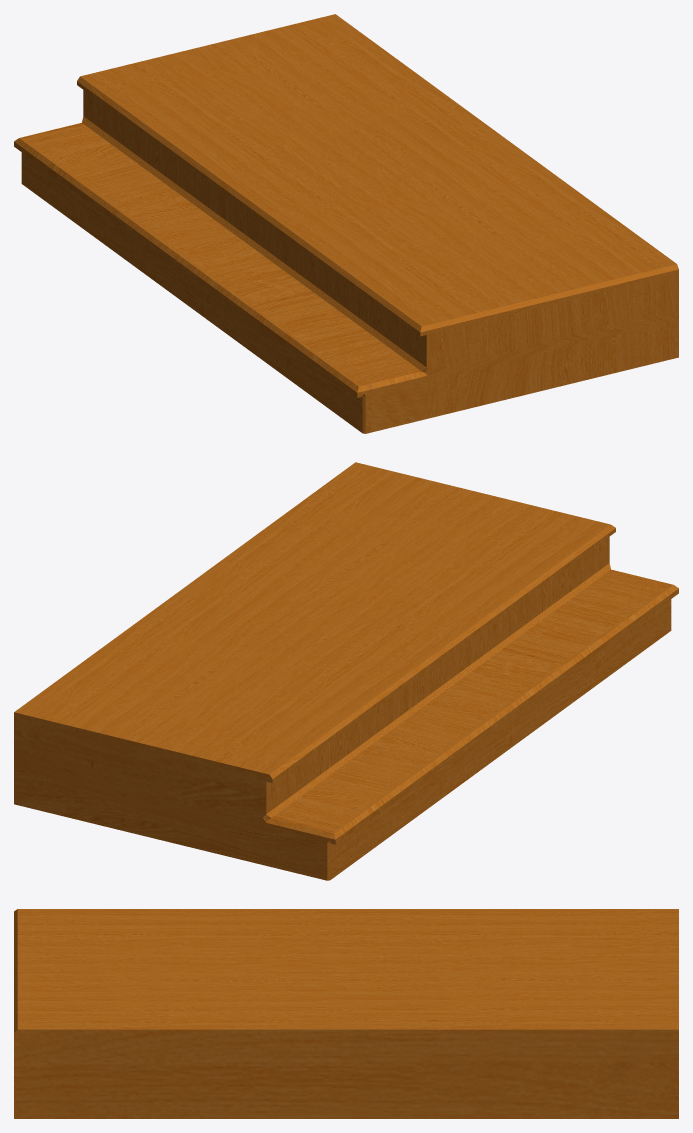
Rendered from escaleras.obj.
3 views of the same model, one above another, from view 1: azimuth 30°, elevation 25°; view 2: azimuth 150°, elevation 25°; view 3: azimuth 270°, elevation 25° (orthographic). The views are drawn at different scales.
Visible parts, largest first — view 1: Escaleras:Mesh; view 2: Escaleras:Mesh; view 3: Escaleras:Mesh.
Boxes of the visible parts, <box> form: Escaleras:Mesh: <box>14,14,678,433</box>; Escaleras:Mesh: <box>14,462,678,880</box>; Escaleras:Mesh: <box>14,909,678,1118</box>.
Bounding box in the file's own units: 3.09 × 0.8455 × 5.72.
Materials: 1 (1 with a texture image).
